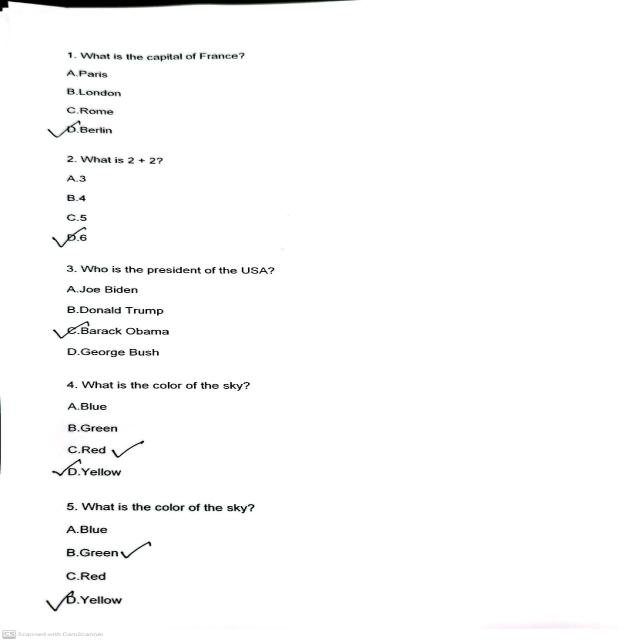Student_Ticked: (39, 114, 92, 142), (49, 318, 93, 344), (110, 440, 152, 463), (40, 588, 76, 614), (49, 226, 90, 248), (120, 538, 155, 561), (49, 456, 83, 477)
